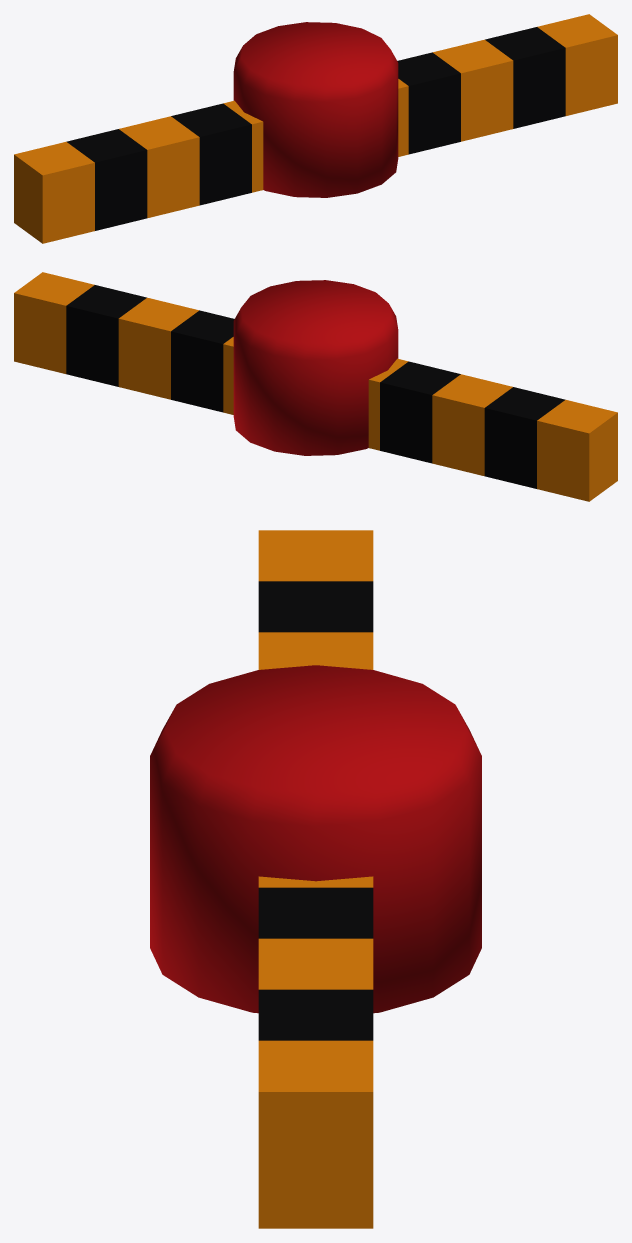
File: SM_Spinner.fbx
The picture shows the model from 3 angles, top to bottom: view 1: azimuth 30°, elevation 25°; view 2: azimuth 150°, elevation 25°; view 3: azimuth 270°, elevation 25°; orthographic projection. The views are drawn at different scales.
Visible parts, largest first — view 1: SM_Spinner; view 2: SM_Spinner; view 3: SM_Spinner.
Boxes of the visible parts, left/top/right/bottom form: SM_Spinner: left=14, top=14, right=617, bottom=243; SM_Spinner: left=14, top=272, right=617, bottom=501; SM_Spinner: left=150, top=530, right=481, bottom=1228.
Size of the model in its own units: 4.4 by 1.1 by 0.8.
